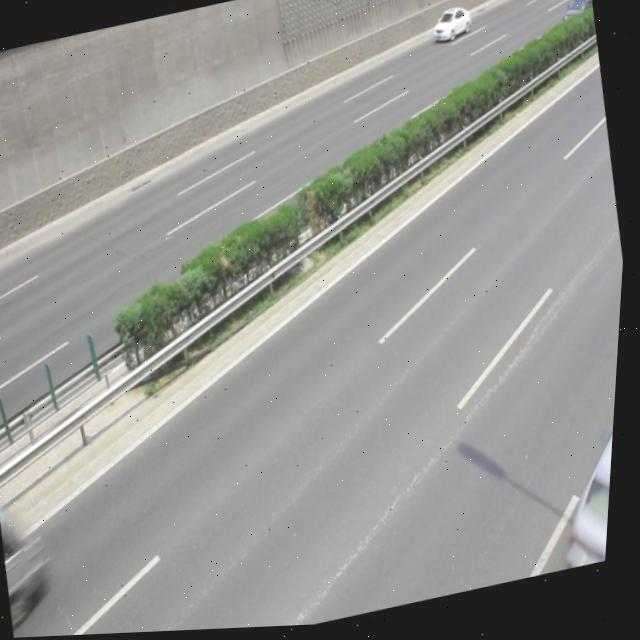car: (427, 7, 473, 50)
